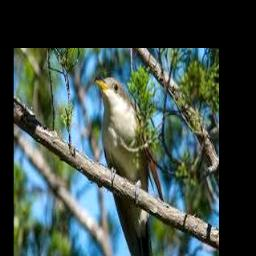Cuckoo: (94, 77, 165, 256)
